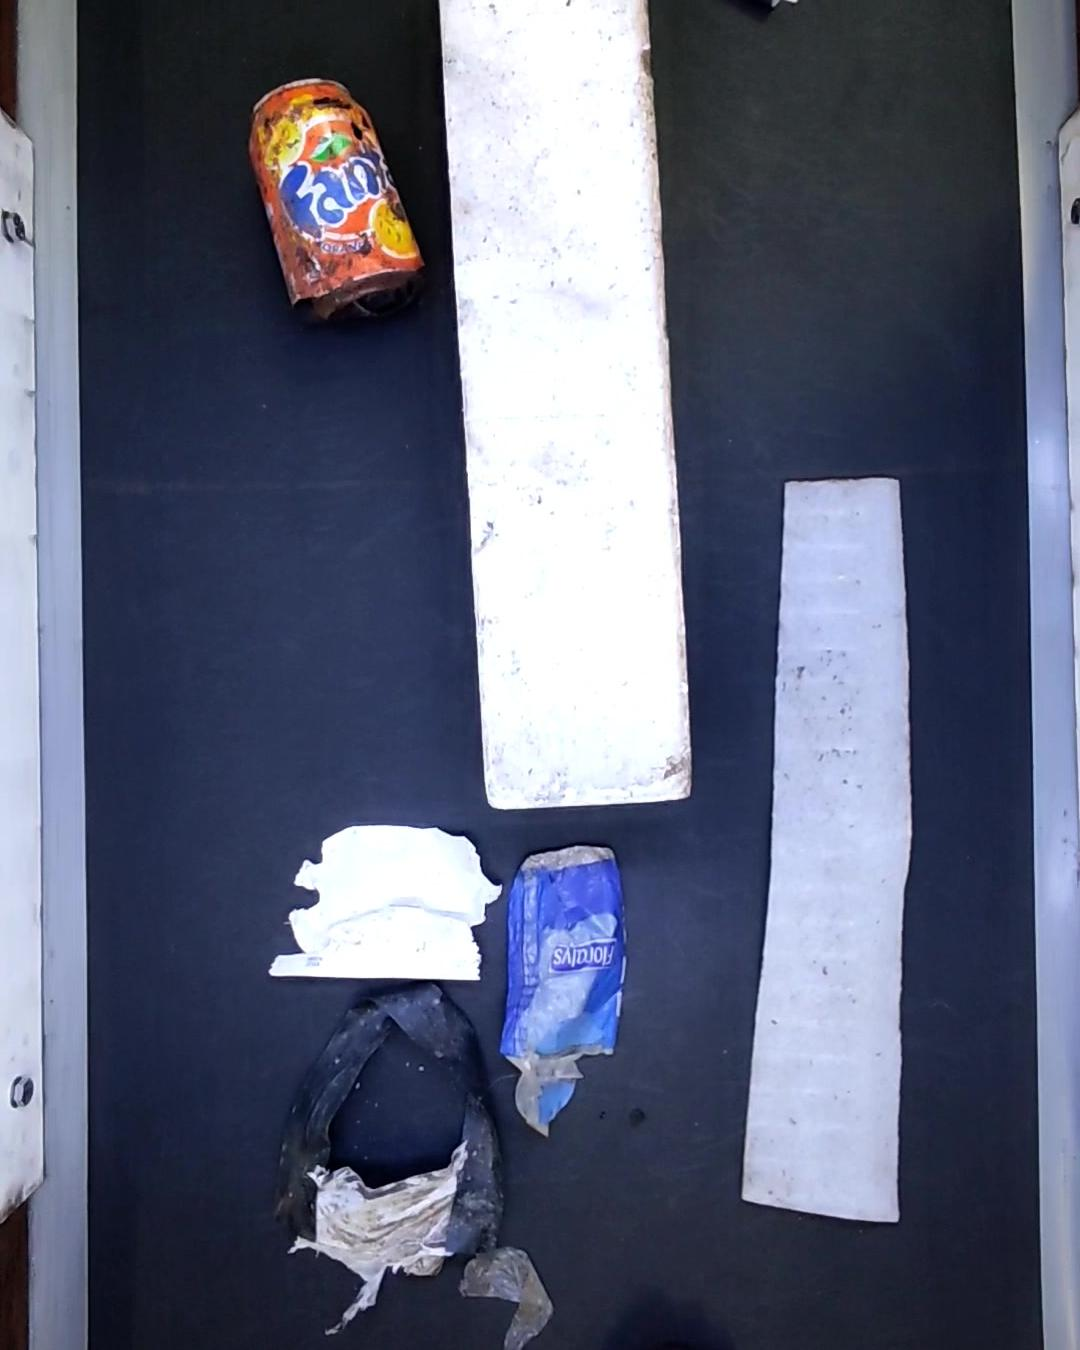Drankblikjes: (244, 78, 421, 330)
Plastic folies of stukken daarvan 2.5- 50 cm: (263, 827, 498, 983), (454, 1240, 558, 1350)
